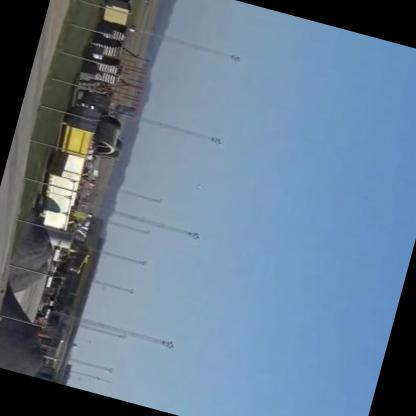plane: (198, 185, 204, 190)
